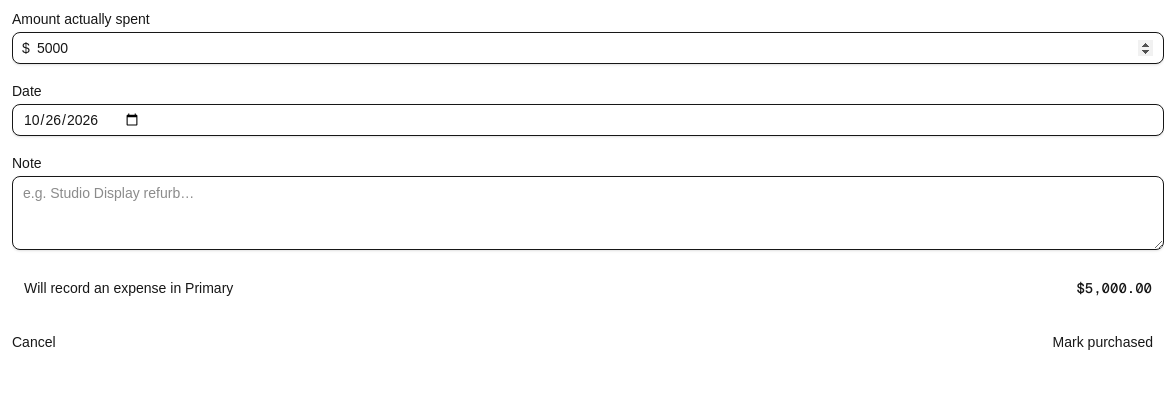
it: GoalPurchaseForm — actions › Mark purchased button calls onSubmit › clears a stale submit error when a new submission attempt begins
The width and height of the screenshot is (1176, 415).
Click the button "Mark purchased". click: [1103, 342]
box: x1=1042 y1=326 x2=1164 y2=358
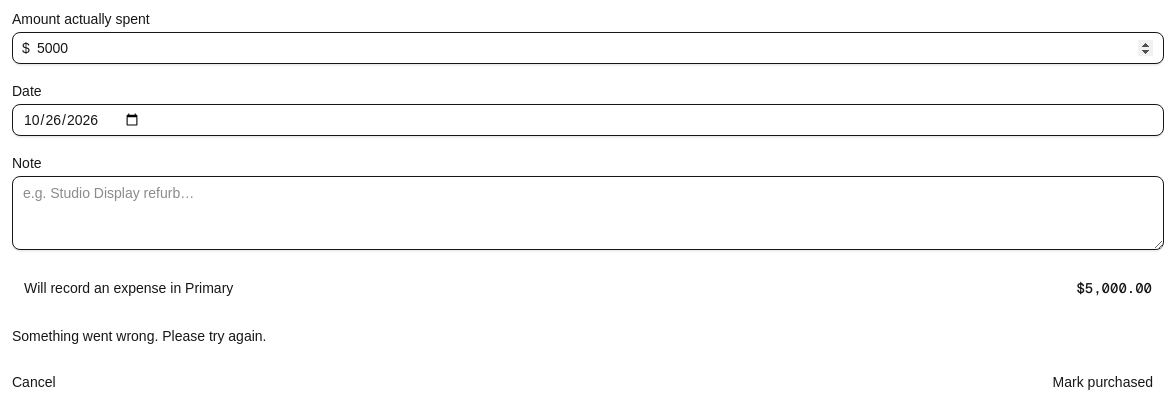
Expected: the text "Something went wrong. Please try again." is shown, x1=12 y1=328 x2=266 y2=344
Click the button "Mark purchased". click: [1103, 382]
box: x1=1042 y1=366 x2=1164 y2=398
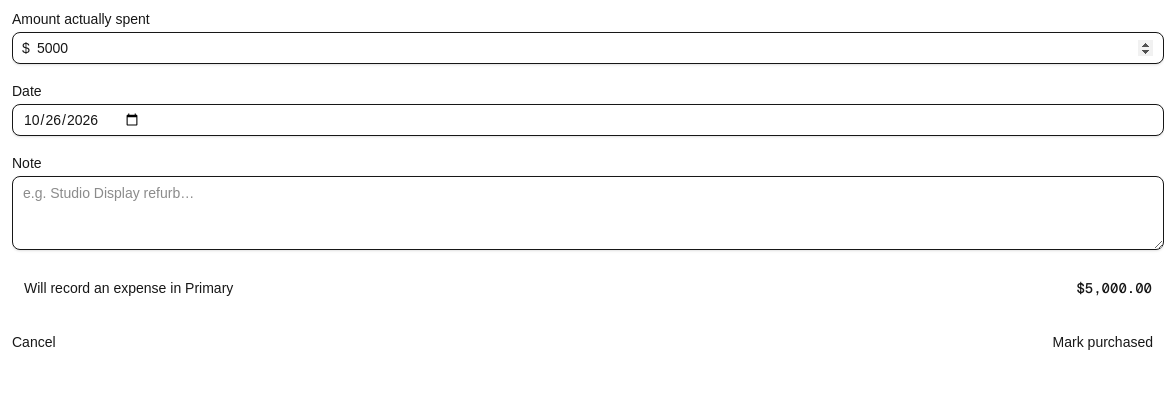
Expected: the text "Something went wrong. Please try again." is gone
